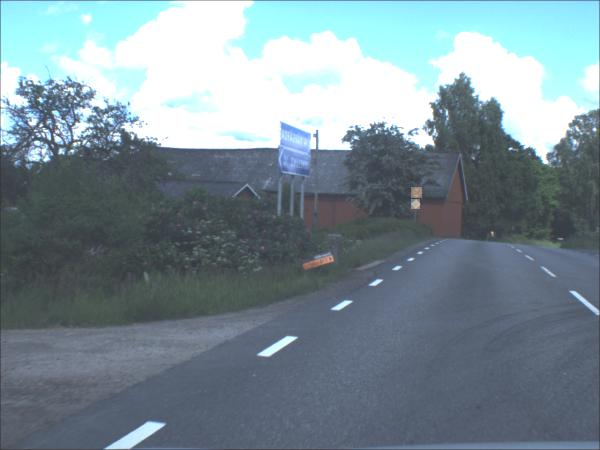50_SIGN: (411, 188, 423, 200)
PRIORITY_ROAD: (411, 200, 421, 211)
